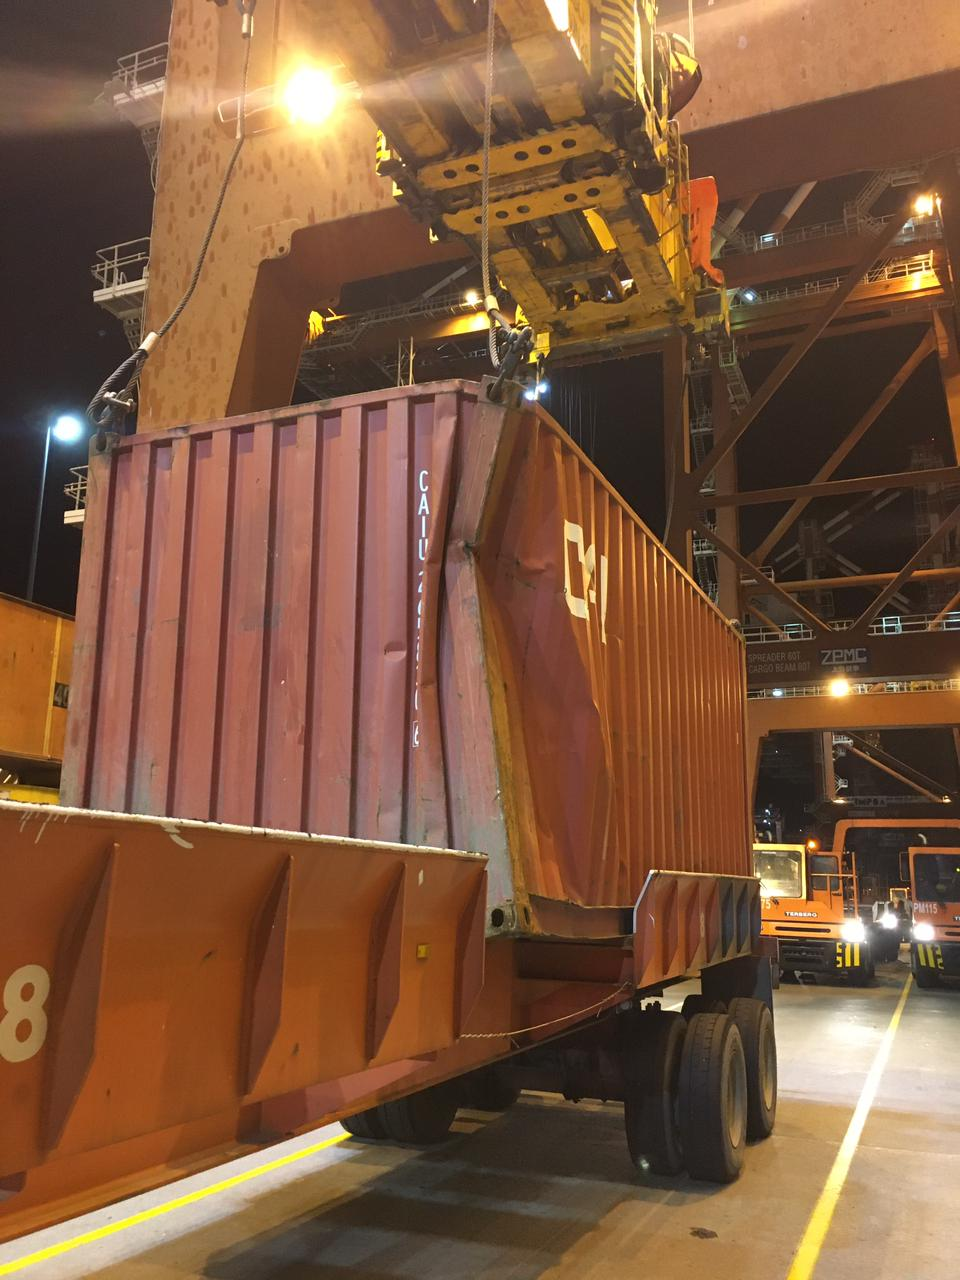dented: (446, 380, 593, 863)
